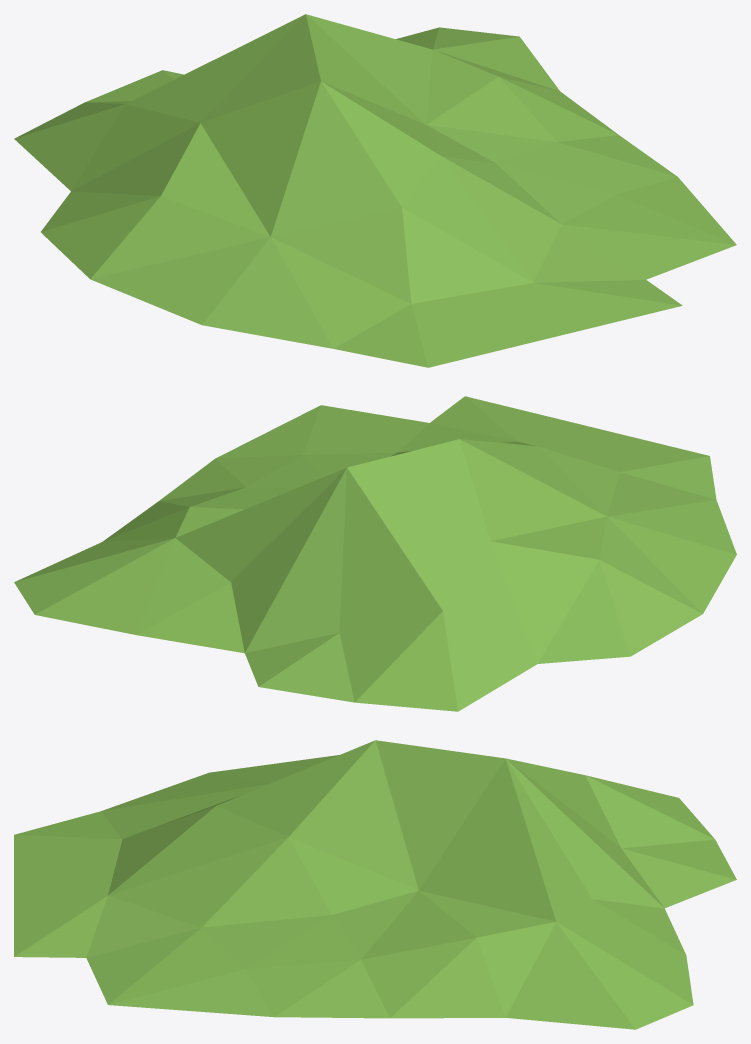
The model's file is MT_Mountain_S_a_12_LOD.fbx.
3 views of the same model, one above another, from view 1: azimuth 30°, elevation 25°; view 2: azimuth 150°, elevation 25°; view 3: azimuth 270°, elevation 25° (orthographic). The views are drawn at different scales.
Parts seen in each view (by area): view 1: MT_Mountain_S_a_12_LOD0; view 2: MT_Mountain_S_a_12_LOD0; view 3: MT_Mountain_S_a_12_LOD0.
Part boxes in pixels (left/top/right/bottom): MT_Mountain_S_a_12_LOD0: left=14, top=14, right=736, bottom=367; MT_Mountain_S_a_12_LOD0: left=14, top=396, right=736, bottom=711; MT_Mountain_S_a_12_LOD0: left=14, top=740, right=736, bottom=1029.
Size of what is drawn, in the model's own units: 1758 by 413 by 1953.
